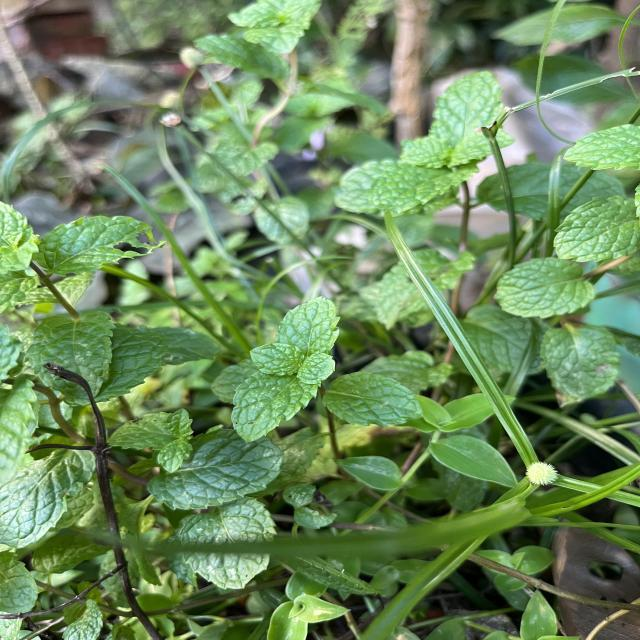Mentha spicata: (230, 370, 323, 444), (492, 256, 596, 321), (322, 371, 425, 428), (276, 296, 340, 354), (250, 342, 304, 377), (296, 352, 336, 386)
